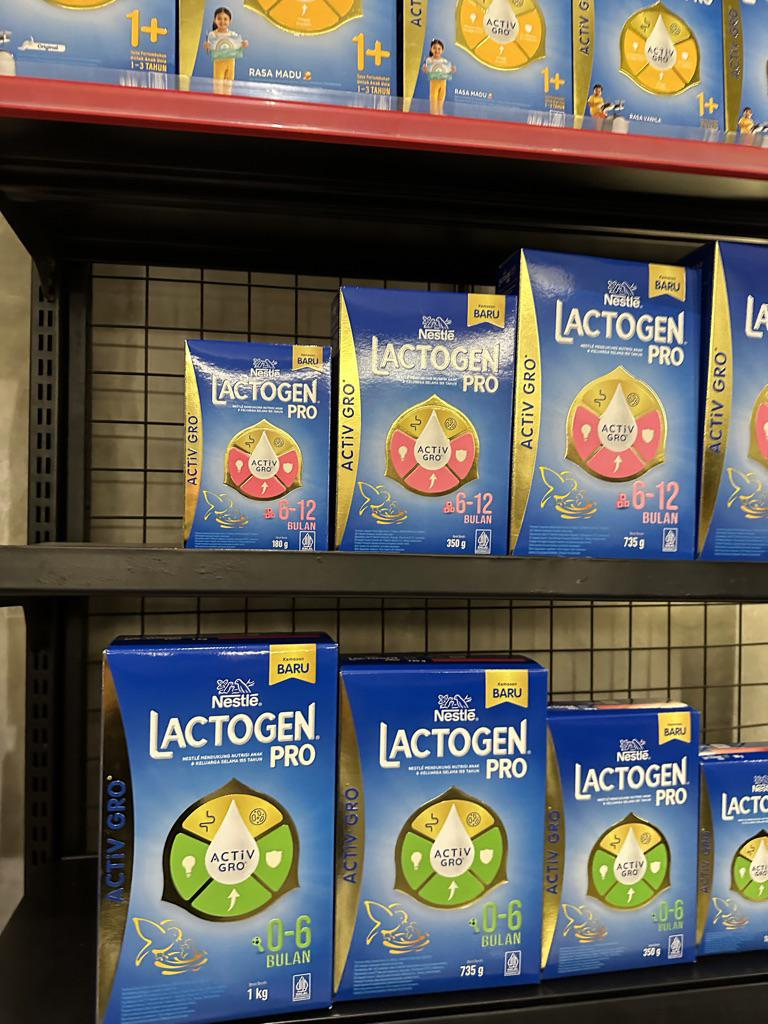LACTOGEN PRO 0-6 mo 12x1kg ID: (97, 642, 338, 1019)
LACTOGEN PRO 0-6 mo 12x735g ID: (335, 665, 549, 994)
LACTOGEN PRO 0-6 mo 24x350g ID: (541, 702, 698, 971)
LACTOGEN PRO 6-12 mo 12x735g ID: (515, 245, 698, 559)
LACTOGEN PRO 6-12 mo 24x350g ID: (334, 284, 514, 555)
LACTOGEN PRO 6-12 mo 40x180g ID: (181, 334, 334, 554)
